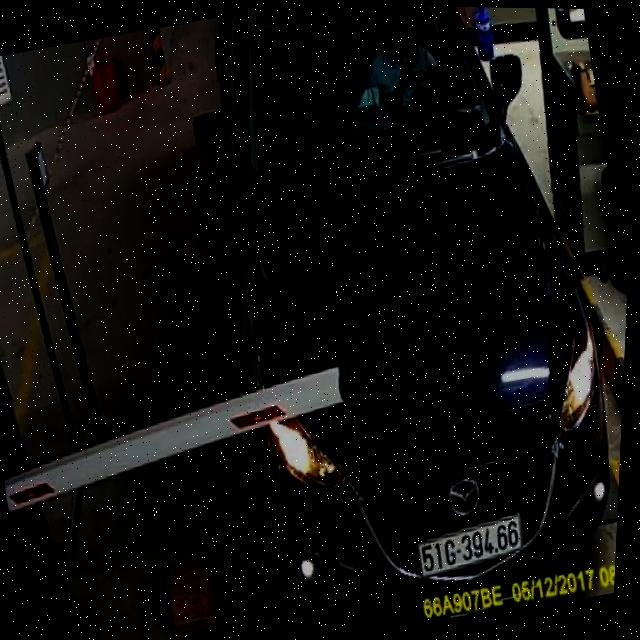car: (146, 3, 640, 631)
plate: (411, 511, 536, 581)
